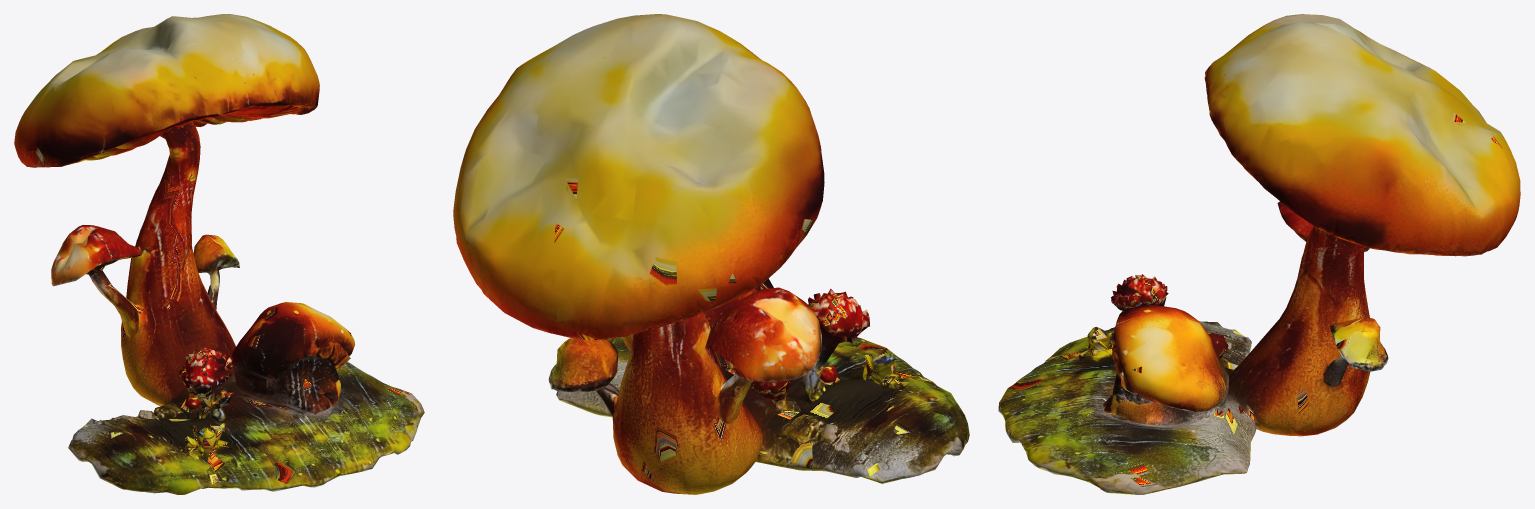
Rendered from mushroom.glb.
3 views of the same model, side by side, from view 1: azimuth 30°, elevation 25°; view 2: azimuth 150°, elevation 25°; view 3: azimuth 270°, elevation 25° (orthographic). The views are drawn at different scales.
Visible parts, largest first — view 1: model; view 2: model; view 3: model.
Part boxes in pixels (<box>): model: <box>14,14,424,494</box>; model: <box>453,14,969,494</box>; model: <box>998,14,1520,494</box>.
Bounding box in the file's own units: 1.44 × 1.62 × 1.9.
1 material, 1 textured.
